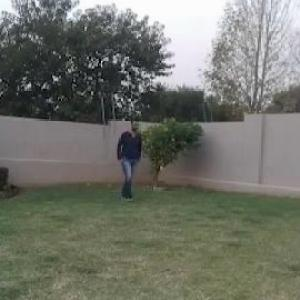follow: (112, 113, 141, 204)
